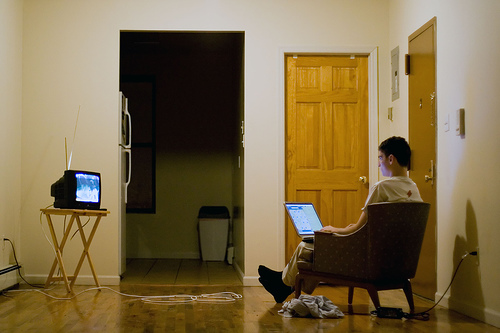without_mask: (375, 141, 408, 180)
